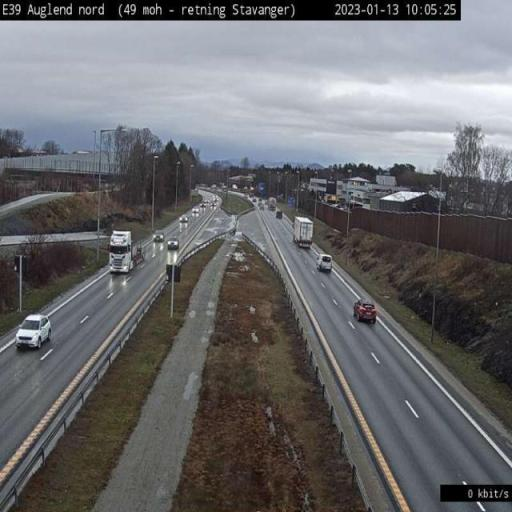vehicle: (16, 314, 52, 350), (108, 230, 134, 275), (353, 299, 378, 323), (318, 254, 332, 272)
